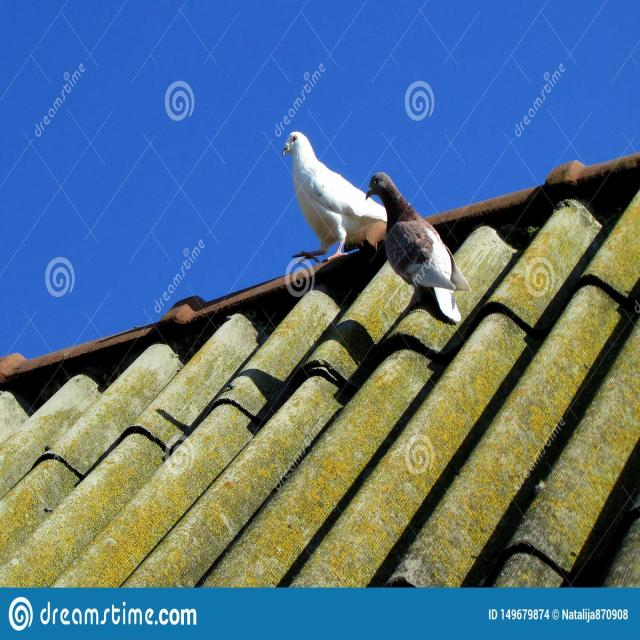bird: (363, 169, 472, 325), (280, 128, 388, 266)
